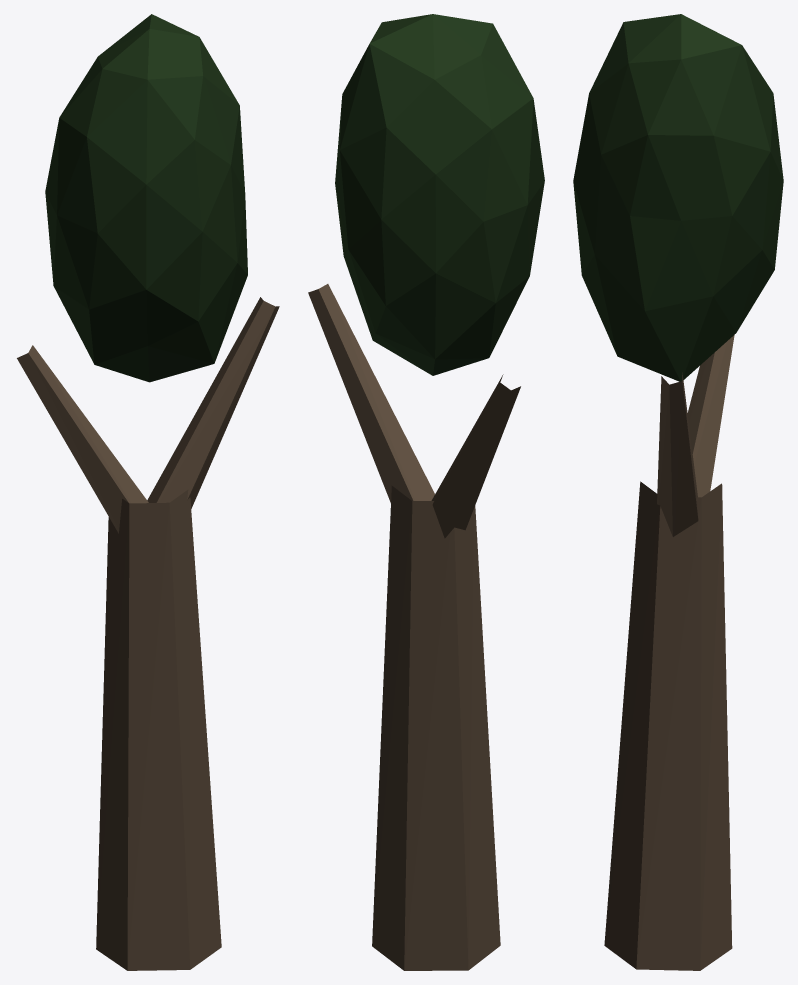
File: 0942-Forest-trees-painted-woods-broadleafTall-1.glb
The picture shows the model from 3 angles, left to right: view 1: azimuth 30°, elevation 25°; view 2: azimuth 150°, elevation 25°; view 3: azimuth 270°, elevation 25°; orthographic projection. The views are drawn at different scales.
Visible parts, largest first — view 1: Forest trees (painted woods)/broadleafTall/1; view 2: Forest trees (painted woods)/broadleafTall/1; view 3: Forest trees (painted woods)/broadleafTall/1.
Boxes of the visible parts, box(x1,y1,x2,y2) form: Forest trees (painted woods)/broadleafTall/1: box(17, 14, 279, 970); Forest trees (painted woods)/broadleafTall/1: box(308, 14, 544, 970); Forest trees (painted woods)/broadleafTall/1: box(573, 14, 783, 970).
Size of the model in its own units: 0.1915 by 0.7168 by 0.1465.
